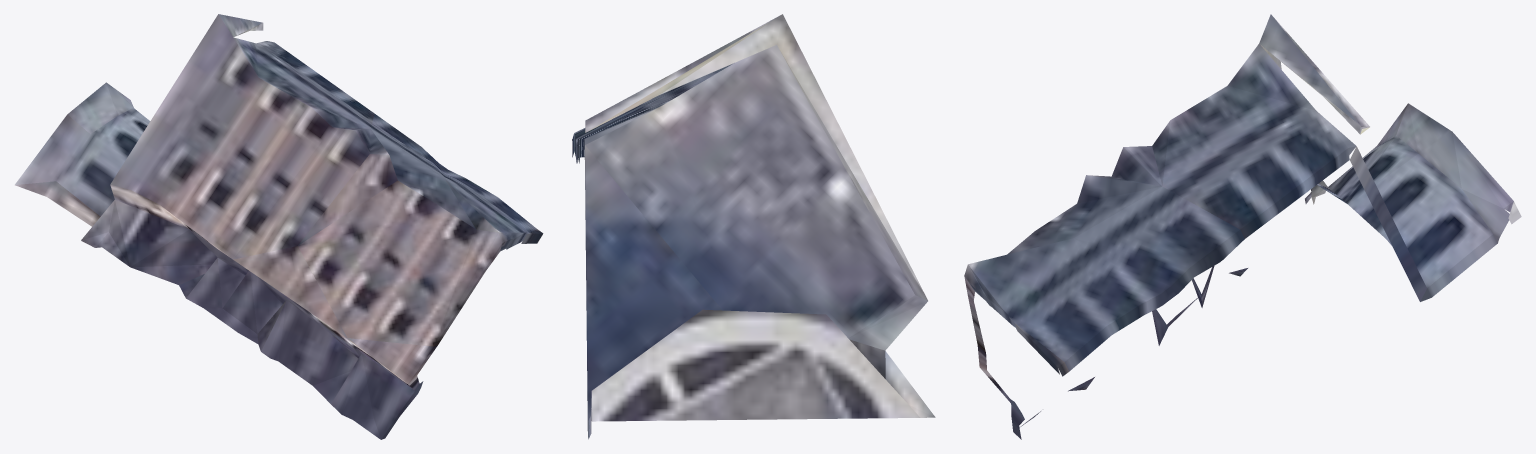
The picture shows the model from 3 angles, left to right: view 1: azimuth 30°, elevation 25°; view 2: azimuth 150°, elevation 25°; view 3: azimuth 270°, elevation 25°; orthographic projection. The views are drawn at different scales.
Size of the model in its own units: 34.09 by 30.91 by 39.41.
1 material, 1 textured.
